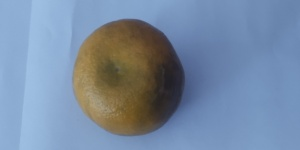BAD: (71, 18, 186, 137)
